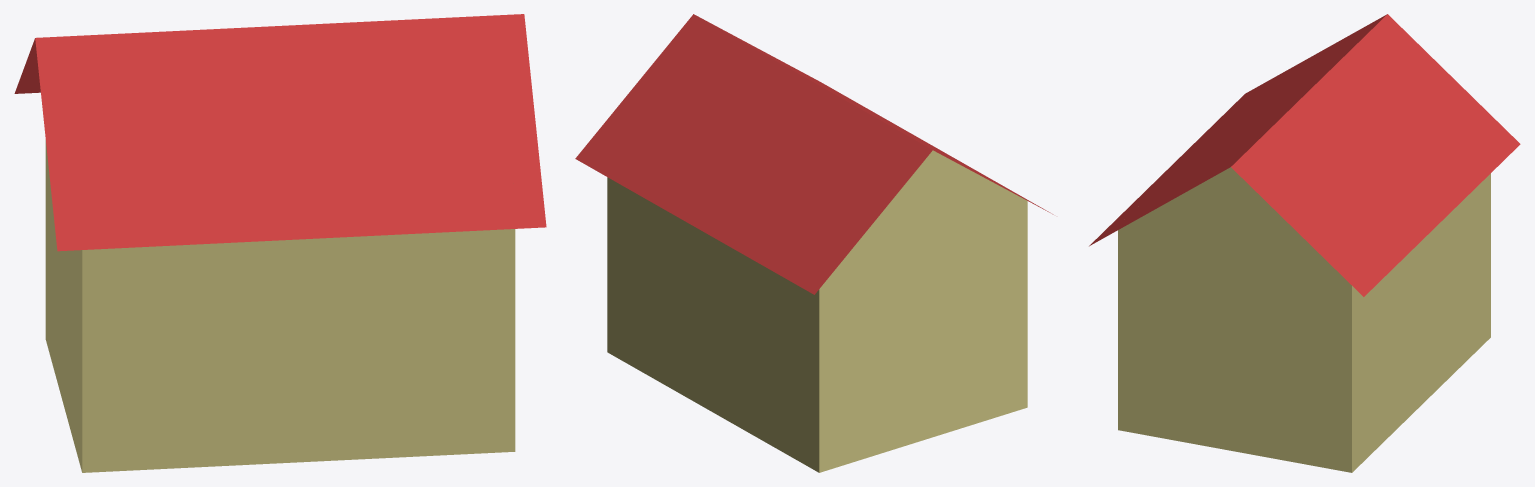
3 views of the same model, side by side, from view 1: azimuth 30°, elevation 25°; view 2: azimuth 150°, elevation 25°; view 3: azimuth 270°, elevation 25° (orthographic). The views are drawn at different scales.
Bounding box in the file's own units: 15.96 × 14.34 × 10.76.
